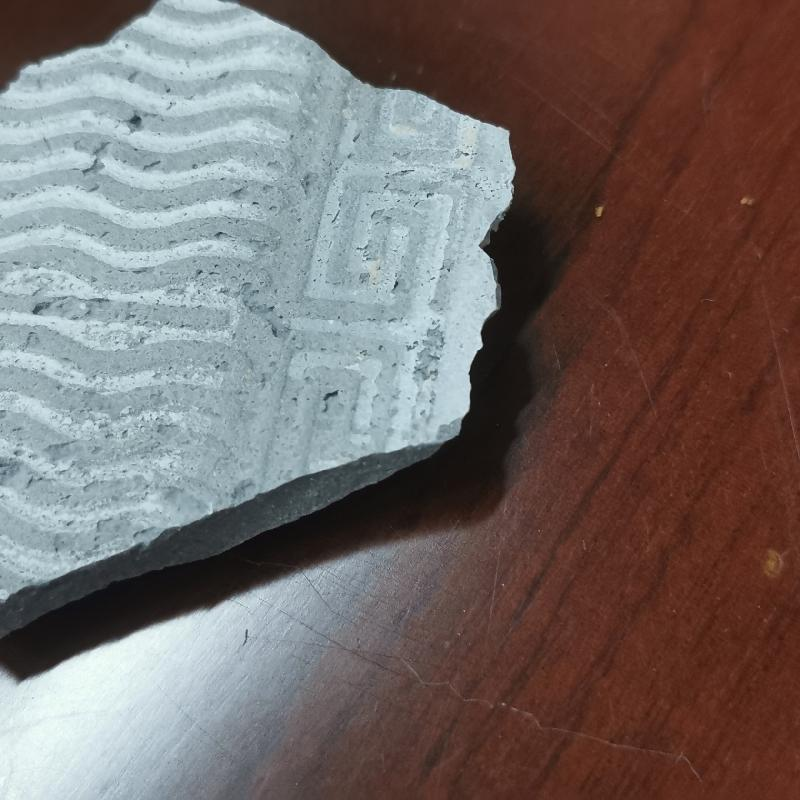tile: (2, 3, 520, 643)
